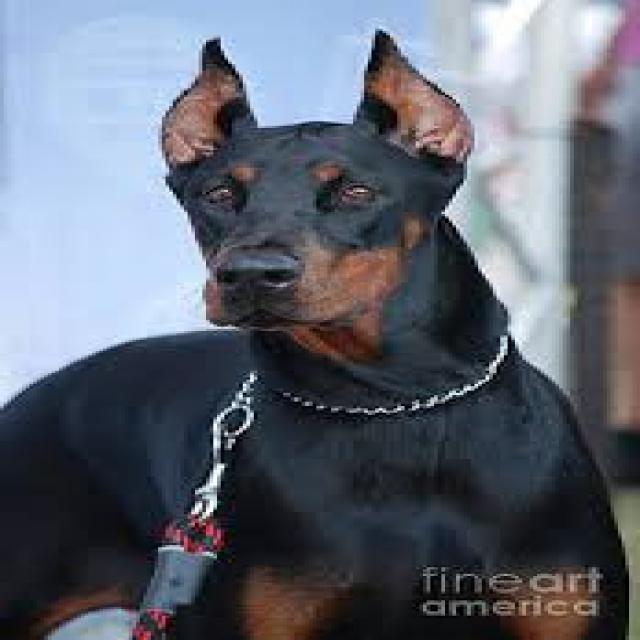Dog: (0, 26, 630, 640)
